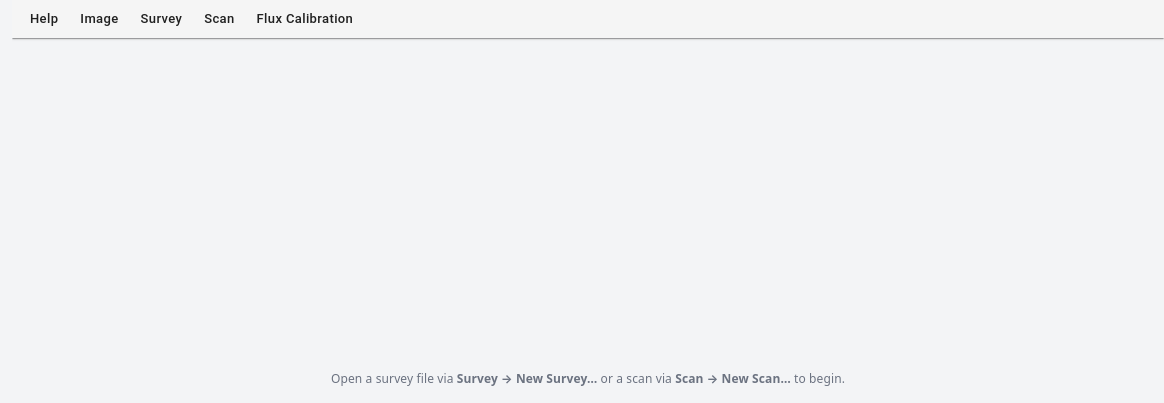
Test: save scan menu items respect hasScan and savePath state
What coordinates should you click on to do the following:
click the button "Scan"
I would click on:
 (219, 19)
Its box is [194,6,245,32].
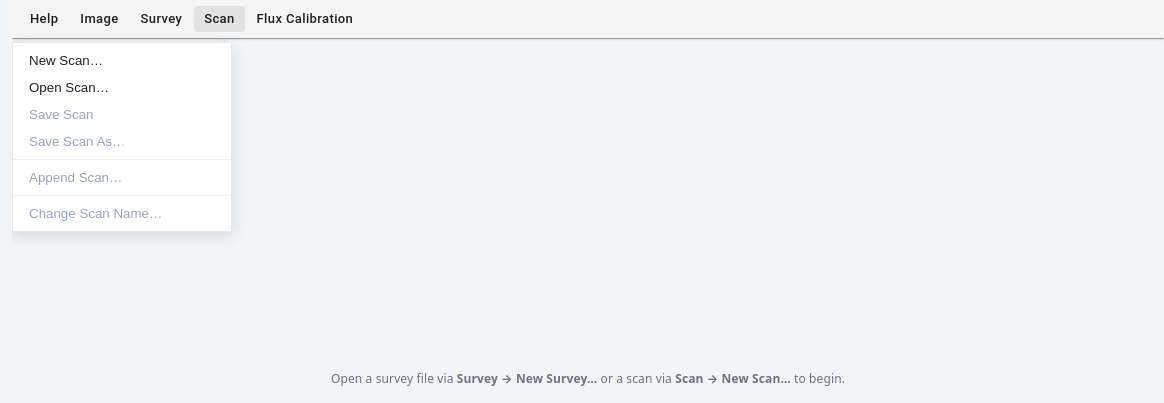
Now the menu item "Save Scan" is disabled, box [13,101,231,128]
Now the menu item "Save Scan As…" is disabled, box [13,128,231,155]
